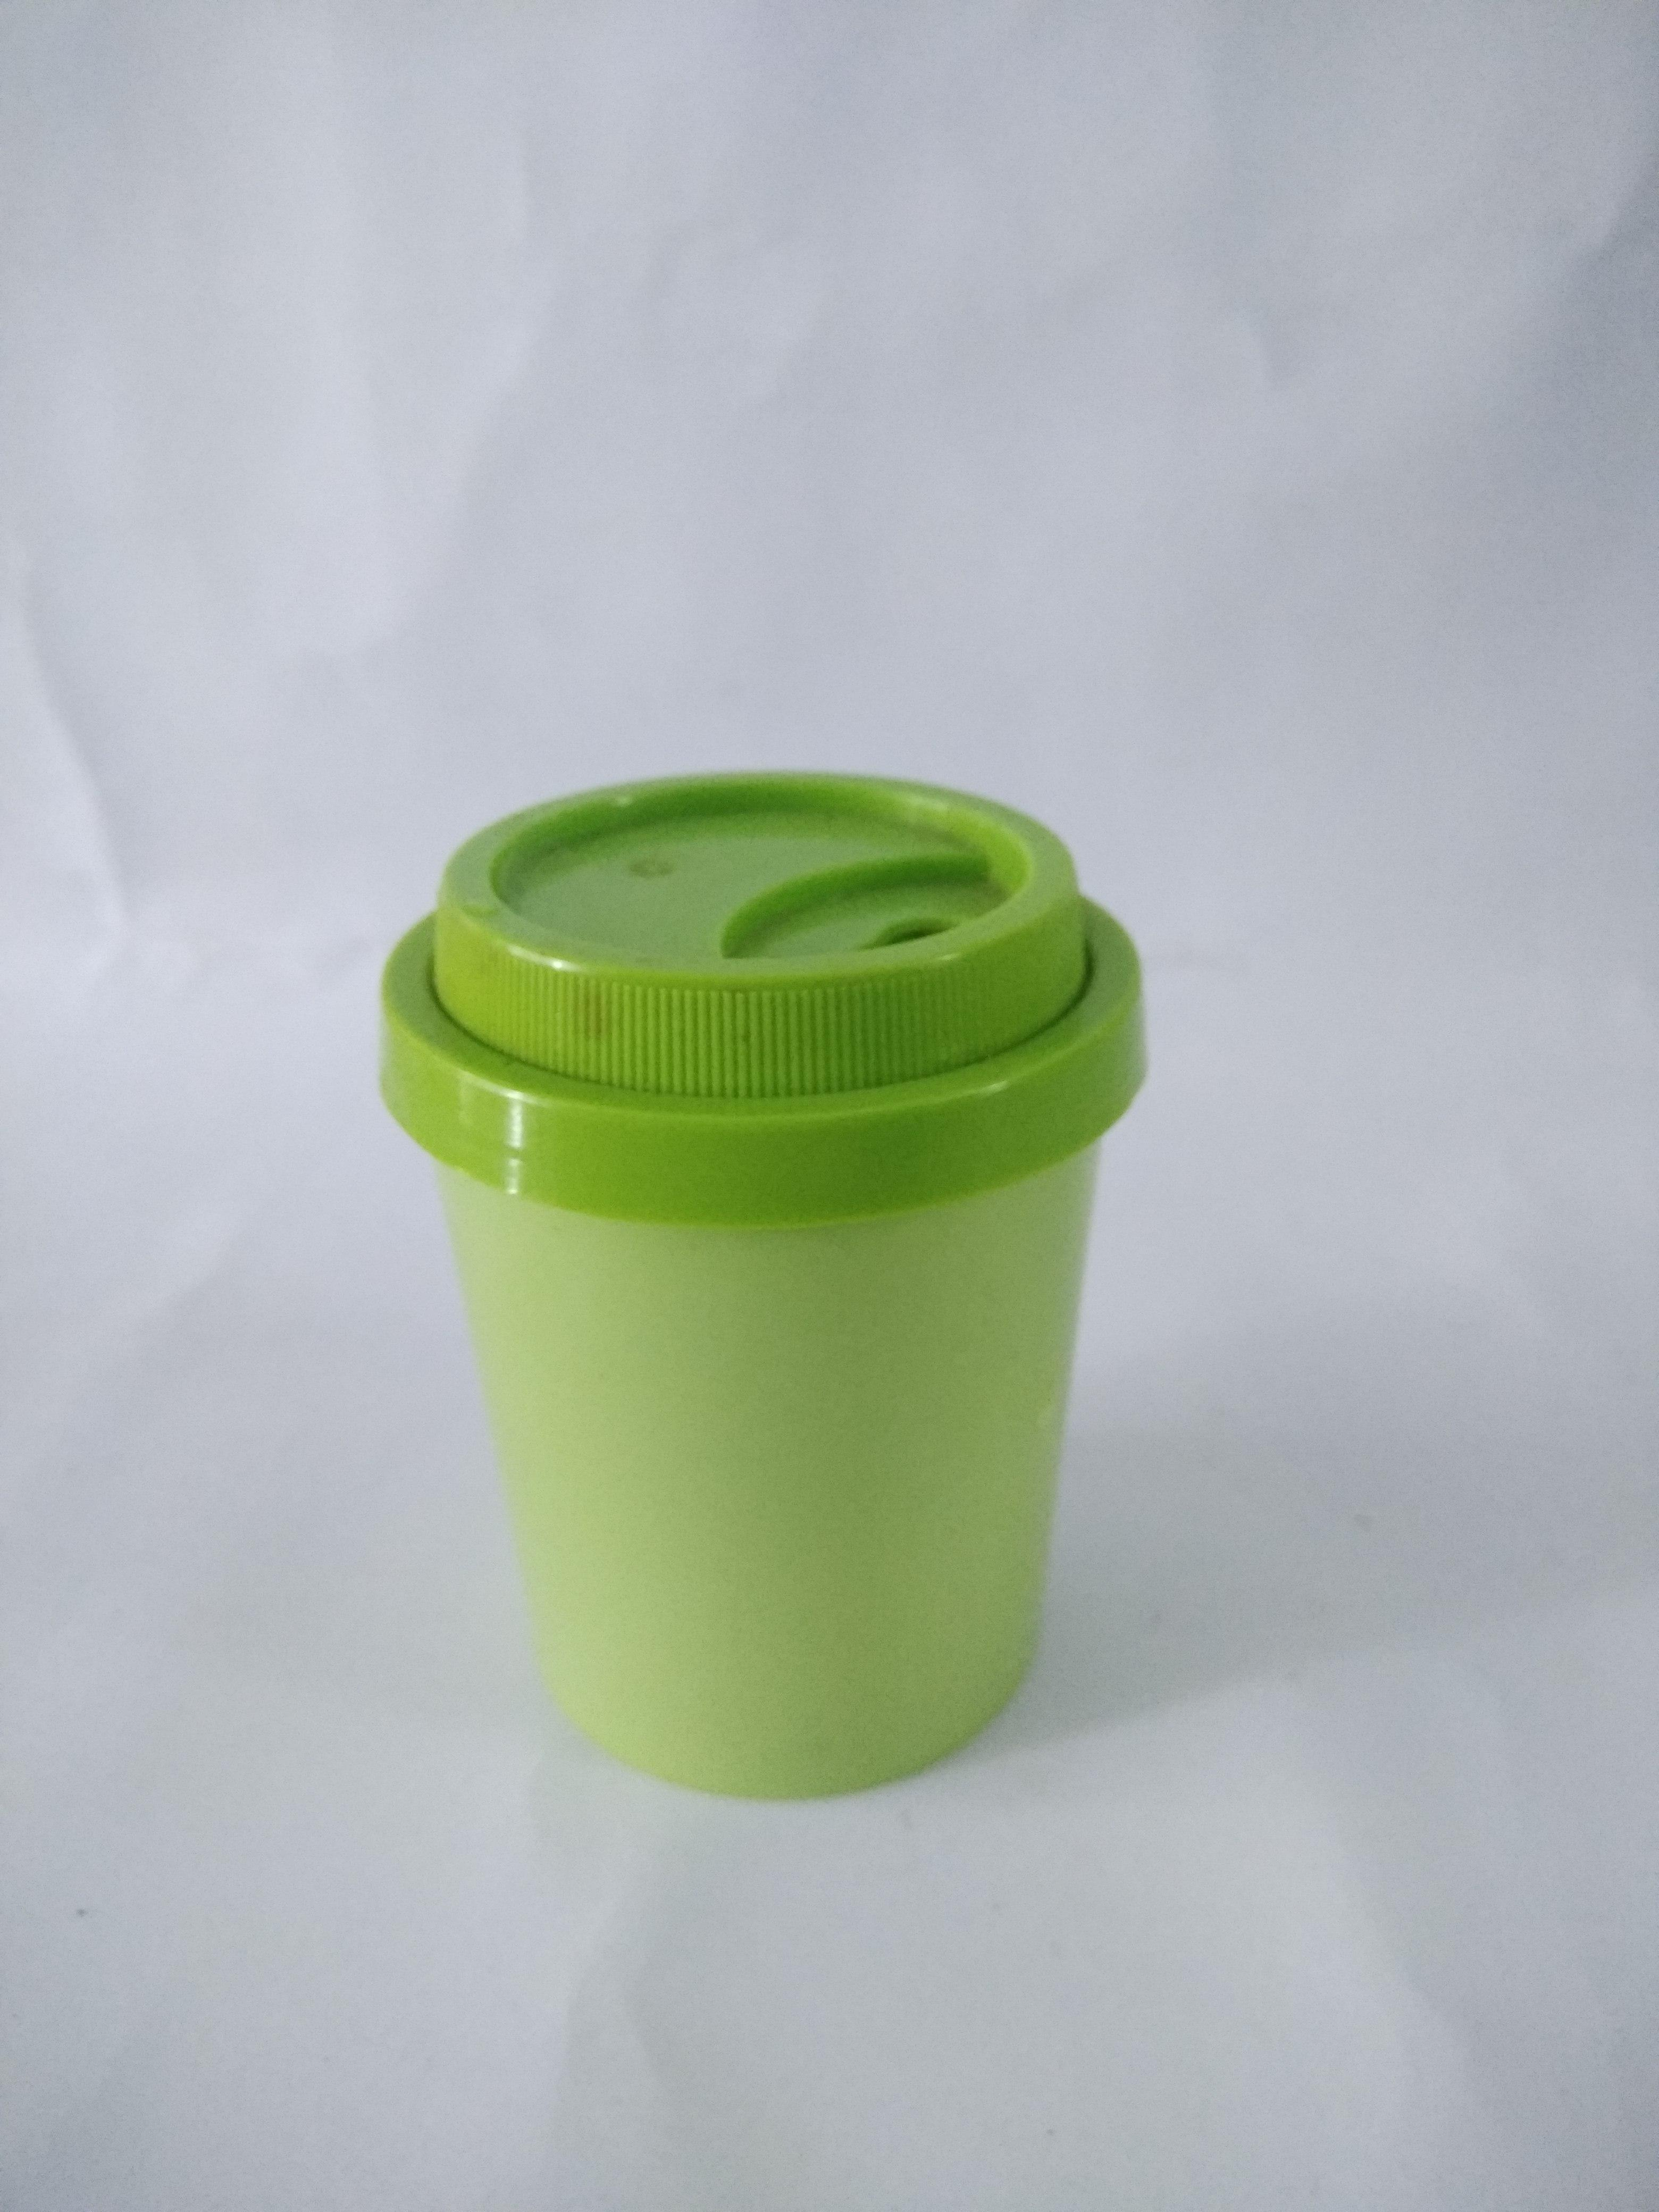PP: (178, 517, 1256, 2151)
